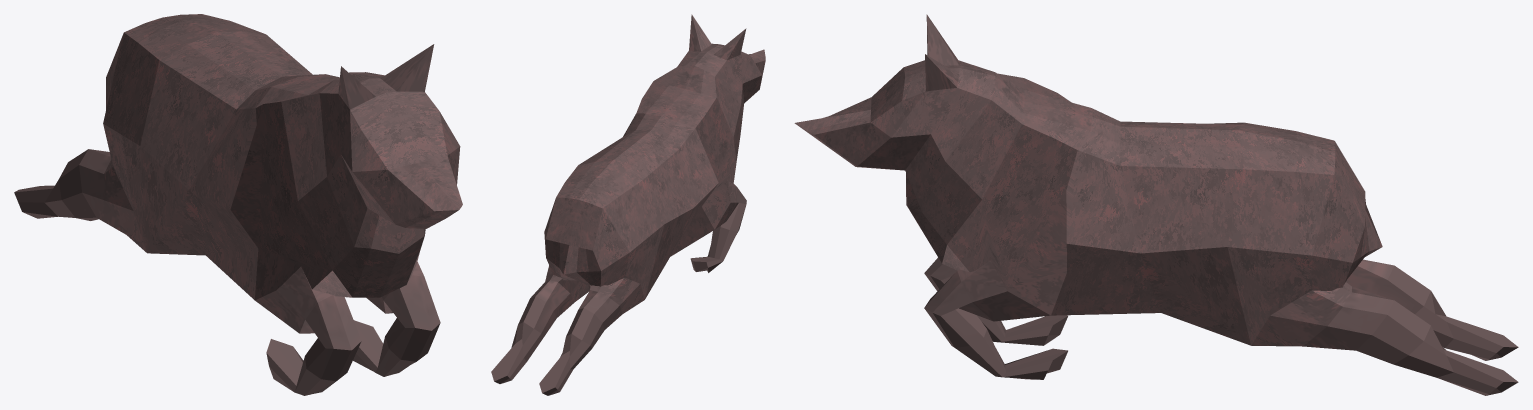
File: piesblendtex_000018.obj
The picture shows the model from 3 angles, left to right: view 1: azimuth 30°, elevation 25°; view 2: azimuth 150°, elevation 25°; view 3: azimuth 270°, elevation 25°; orthographic projection. The views are drawn at different scales.
Visible parts, largest first — view 1: Cube; view 2: Cube; view 3: Cube.
Boxes of the visible parts, x1=… form: Cube: x1=14, y1=14, x2=462, y2=395; Cube: x1=491, y1=14, x2=765, y2=395; Cube: x1=794, y1=14, x2=1518, y2=395.
Bounding box in the file's own units: 2.56 × 5.75 × 11.
